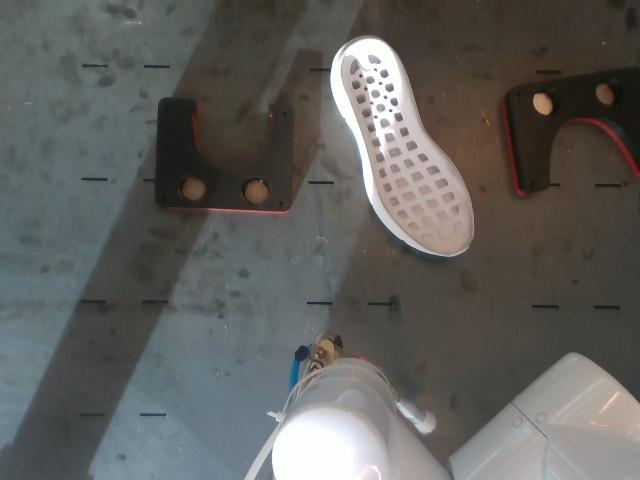shoes: (340, 40, 474, 256)
